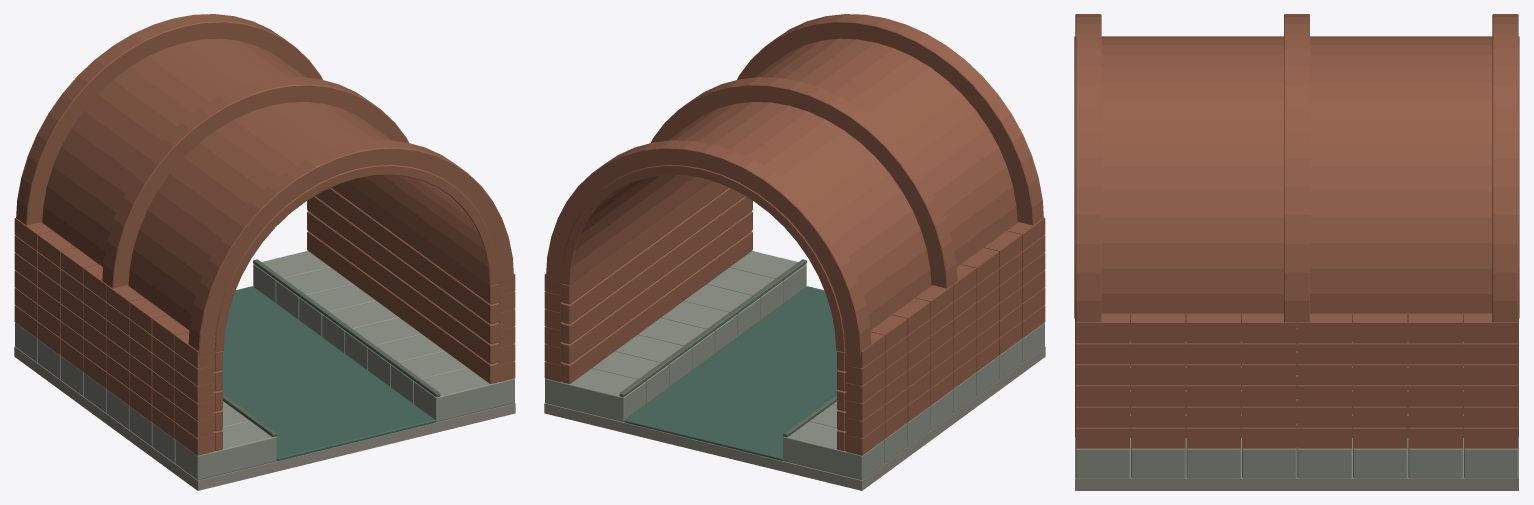
File: undercity-sewers-and-thieves-den-brick-barrel-tunnel-e430dd84__25007.glb
3 renders of one model, left to right at view 1: azimuth 30°, elevation 25°; view 2: azimuth 150°, elevation 25°; view 3: azimuth 270°, elevation 25°, orthographic. The views are drawn at different scales.
Parts seen in each view (by area): view 1: brick-barrel-tunnel; view 2: brick-barrel-tunnel; view 3: brick-barrel-tunnel.
Boxes of the visible parts, x1,y1,x2,y2 form: brick-barrel-tunnel: (14,14,515,490); brick-barrel-tunnel: (544,14,1045,490); brick-barrel-tunnel: (1074,14,1519,490).
Bounding box in the file's own units: 4 × 3.61 × 4.02.
